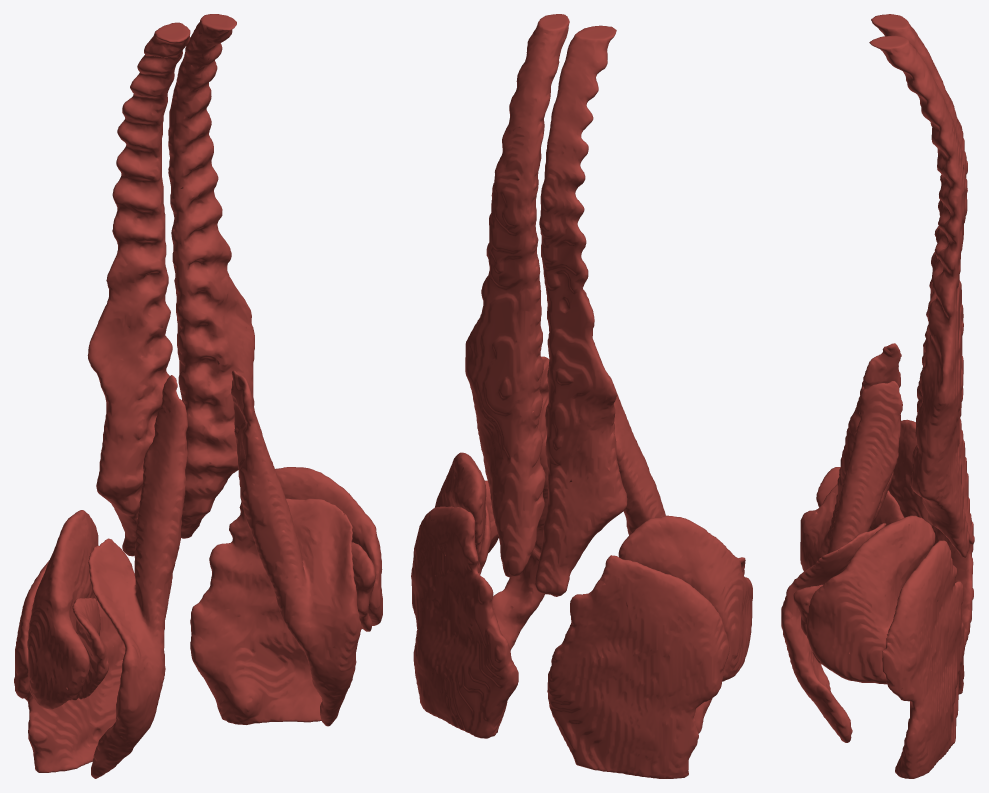
File: tsd_s0327_older_adult_male.muscular.LOD1.glb
3 renders of one model, left to right at view 1: azimuth 30°, elevation 25°; view 2: azimuth 150°, elevation 25°; view 3: azimuth 270°, elevation 25°, orthographic. The views are drawn at different scales.
Parts seen in each view (by area): view 1: TSD_S0327.OLDER_ADULT.MALE.MUSCULAR.ERECTOR_SPINAE_AUTOCHTHO (×2), TSD_S0327.OLDER_ADULT.MALE.MUSCULAR.ILIOPSOAS.L, TSD_S0327.OLDER_ADULT.MALE.MUSCULAR.ILIOPSOAS.R, TSD_S0327.OLDER_ADULT.MALE.MUSCULAR.GLUTEUS_MAXIMUS.L, TSD_S0327.OLDER_ADULT.MALE.MUSCULAR.GLUTEUS_MEDIUS.R, TSD_S0327.OLDER_ADULT.MALE.MUSCULAR.GLUTEUS_MAXIMUS.R, TSD_S0327.OLDER_ADULT.MALE.MUSCULAR.GLUTEUS_MEDIUS.L, TSD_S0327.OLDER_ADULT.MALE.MUSCULAR.GLUTEUS_MINIMUS.R, TSD_S0327.OLDER_ADULT.MALE.MUSCULAR.GLUTEUS_MINIMUS.L; view 2: TSD_S0327.OLDER_ADULT.MALE.MUSCULAR.ERECTOR_SPINAE_AUTOCHTHO (×2), TSD_S0327.OLDER_ADULT.MALE.MUSCULAR.GLUTEUS_MAXIMUS.R, TSD_S0327.OLDER_ADULT.MALE.MUSCULAR.GLUTEUS_MAXIMUS.L, TSD_S0327.OLDER_ADULT.MALE.MUSCULAR.GLUTEUS_MEDIUS.R, TSD_S0327.OLDER_ADULT.MALE.MUSCULAR.ILIOPSOAS.L, TSD_S0327.OLDER_ADULT.MALE.MUSCULAR.ILIOPSOAS.R, TSD_S0327.OLDER_ADULT.MALE.MUSCULAR.GLUTEUS_MEDIUS.L, TSD_S0327.OLDER_ADULT.MALE.MUSCULAR.GLUTEUS_MINIMUS.L; view 3: TSD_S0327.OLDER_ADULT.MALE.MUSCULAR.ERECTOR_SPINAE_AUTOCHTHO (×2), TSD_S0327.OLDER_ADULT.MALE.MUSCULAR.GLUTEUS_MAXIMUS.L, TSD_S0327.OLDER_ADULT.MALE.MUSCULAR.ILIOPSOAS.L, TSD_S0327.OLDER_ADULT.MALE.MUSCULAR.GLUTEUS_MEDIUS.L, TSD_S0327.OLDER_ADULT.MALE.MUSCULAR.ILIOPSOAS.R, TSD_S0327.OLDER_ADULT.MALE.MUSCULAR.GLUTEUS_MEDIUS.R, TSD_S0327.OLDER_ADULT.MALE.MUSCULAR.GLUTEUS_MAXIMUS.R, TSD_S0327.OLDER_ADULT.MALE.MUSCULAR.GLUTEUS_MINIMUS.R, TSD_S0327.OLDER_ADULT.MALE.MUSCULAR.GLUTEUS_MINIMUS.L.
Boxes of the visible parts, left/top/right/bottom form: TSD_S0327.OLDER_ADULT.MALE.MUSCULAR.ERECTOR_SPINAE_AUTOCHTHO (×2): left=87, top=14, right=254, bottom=556; TSD_S0327.OLDER_ADULT.MALE.MUSCULAR.ILIOPSOAS.L: left=231, top=370, right=361, bottom=726; TSD_S0327.OLDER_ADULT.MALE.MUSCULAR.ILIOPSOAS.R: left=88, top=375, right=187, bottom=778; TSD_S0327.OLDER_ADULT.MALE.MUSCULAR.GLUTEUS_MAXIMUS.L: left=190, top=502, right=322, bottom=724; TSD_S0327.OLDER_ADULT.MALE.MUSCULAR.GLUTEUS_MEDIUS.R: left=27, top=510, right=98, bottom=709; TSD_S0327.OLDER_ADULT.MALE.MUSCULAR.GLUTEUS_MAXIMUS.R: left=14, top=560, right=125, bottom=772; TSD_S0327.OLDER_ADULT.MALE.MUSCULAR.GLUTEUS_MEDIUS.L: left=275, top=467, right=382, bottom=625; TSD_S0327.OLDER_ADULT.MALE.MUSCULAR.GLUTEUS_MINIMUS.R: left=69, top=598, right=108, bottom=700; TSD_S0327.OLDER_ADULT.MALE.MUSCULAR.GLUTEUS_MINIMUS.L: left=351, top=542, right=376, bottom=631; TSD_S0327.OLDER_ADULT.MALE.MUSCULAR.ERECTOR_SPINAE_AUTOCHTHO (×2): left=465, top=14, right=627, bottom=596; TSD_S0327.OLDER_ADULT.MALE.MUSCULAR.GLUTEUS_MAXIMUS.R: left=547, top=555, right=729, bottom=778; TSD_S0327.OLDER_ADULT.MALE.MUSCULAR.GLUTEUS_MAXIMUS.L: left=411, top=506, right=518, bottom=738; TSD_S0327.OLDER_ADULT.MALE.MUSCULAR.GLUTEUS_MEDIUS.R: left=618, top=515, right=752, bottom=681; TSD_S0327.OLDER_ADULT.MALE.MUSCULAR.ILIOPSOAS.L: left=483, top=356, right=549, bottom=650; TSD_S0327.OLDER_ADULT.MALE.MUSCULAR.ILIOPSOAS.R: left=609, top=376, right=712, bottom=733; TSD_S0327.OLDER_ADULT.MALE.MUSCULAR.GLUTEUS_MEDIUS.L: left=435, top=452, right=486, bottom=572; TSD_S0327.OLDER_ADULT.MALE.MUSCULAR.GLUTEUS_MINIMUS.L: left=479, top=480, right=498, bottom=574; TSD_S0327.OLDER_ADULT.MALE.MUSCULAR.ERECTOR_SPINAE_AUTOCHTHO (×2): left=869, top=14, right=974, bottom=557; TSD_S0327.OLDER_ADULT.MALE.MUSCULAR.GLUTEUS_MAXIMUS.L: left=882, top=540, right=966, bottom=778; TSD_S0327.OLDER_ADULT.MALE.MUSCULAR.ILIOPSOAS.L: left=781, top=381, right=902, bottom=742; TSD_S0327.OLDER_ADULT.MALE.MUSCULAR.GLUTEUS_MEDIUS.L: left=807, top=515, right=935, bottom=684; TSD_S0327.OLDER_ADULT.MALE.MUSCULAR.ILIOPSOAS.R: left=800, top=343, right=901, bottom=571; TSD_S0327.OLDER_ADULT.MALE.MUSCULAR.GLUTEUS_MEDIUS.R: left=888, top=419, right=932, bottom=526; TSD_S0327.OLDER_ADULT.MALE.MUSCULAR.GLUTEUS_MAXIMUS.R: left=932, top=520, right=973, bottom=694; TSD_S0327.OLDER_ADULT.MALE.MUSCULAR.GLUTEUS_MINIMUS.R: left=816, top=467, right=904, bottom=531; TSD_S0327.OLDER_ADULT.MALE.MUSCULAR.GLUTEUS_MINIMUS.L: left=793, top=584, right=823, bottom=663.
Size of the model in its own units: 0.3077 by 0.6439 by 0.1658.
